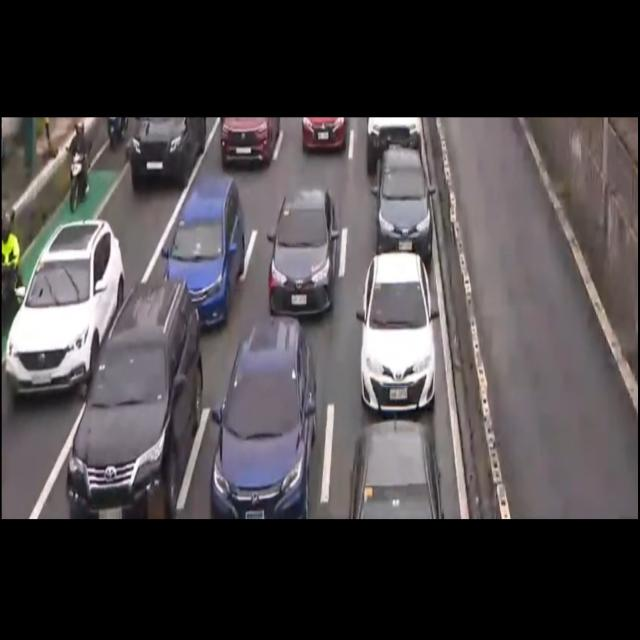Motorcycle: (54, 117, 88, 202)
SUV: (74, 276, 204, 517), (208, 314, 318, 520), (6, 214, 116, 398), (128, 108, 206, 187)
Sedan: (358, 253, 439, 409), (163, 178, 240, 323), (350, 414, 446, 522), (268, 178, 334, 314), (373, 145, 437, 283)
Truck: (0, 190, 22, 330)
